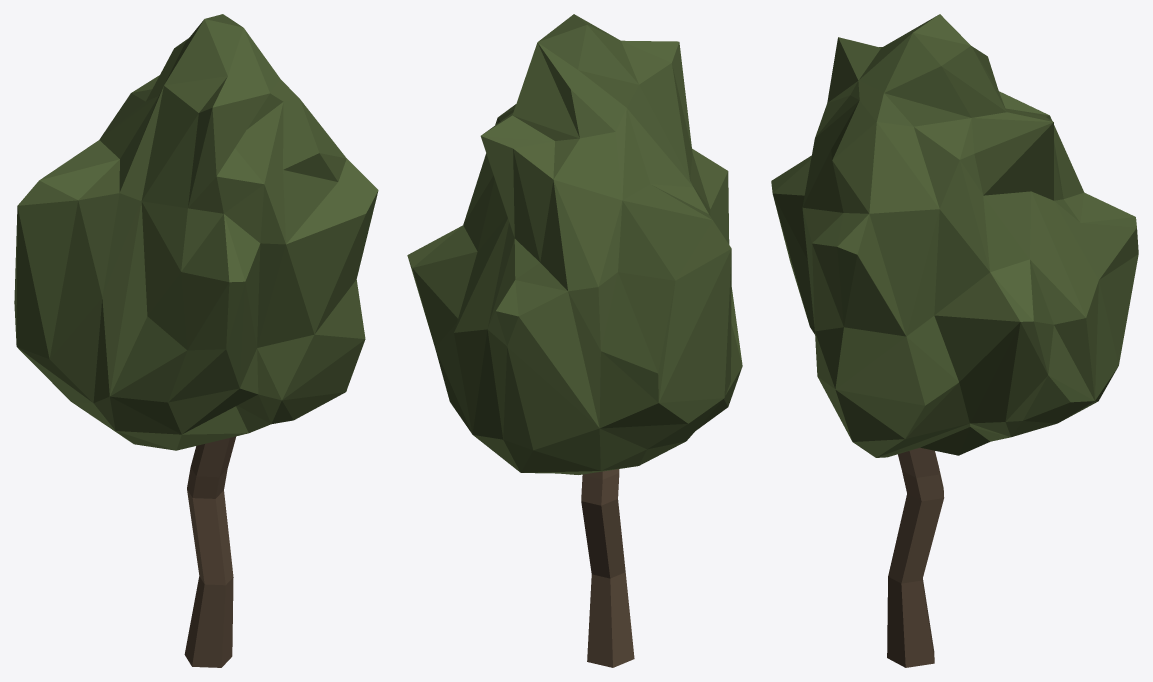
The model's file is Tree_088.fbx.
3 views of the same model, side by side, from view 1: azimuth 30°, elevation 25°; view 2: azimuth 150°, elevation 25°; view 3: azimuth 270°, elevation 25° (orthographic). The views are drawn at different scales.
Parts seen in each view (by area): view 1: Tree_088; view 2: Tree_088; view 3: Tree_088.
Boxes of the visible parts, <box> form: Tree_088: <box>14,14,378,667</box>; Tree_088: <box>407,14,742,667</box>; Tree_088: <box>771,14,1138,667</box>.
Bounding box in the file's own units: 0.8231 × 1.64 × 0.8405.
Materials: 1 (1 with a texture image).
